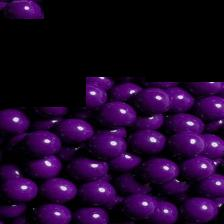purple: (4, 1, 224, 224)
